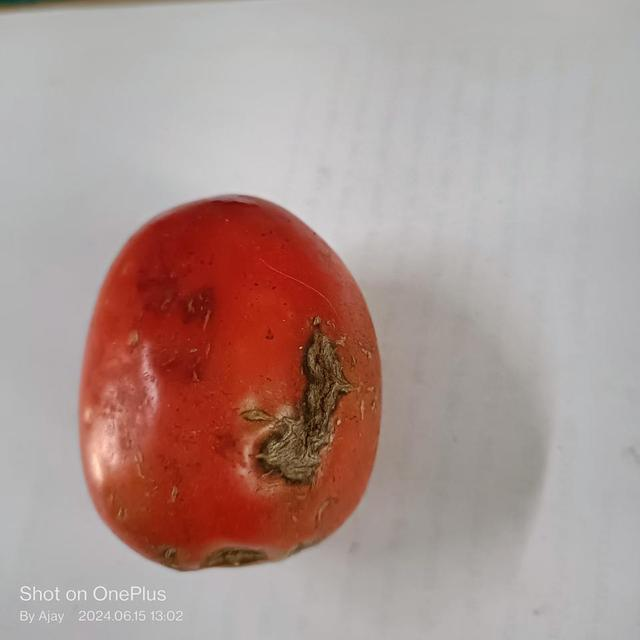Bacterial Spot Fruit: (15, 12, 216, 371)
